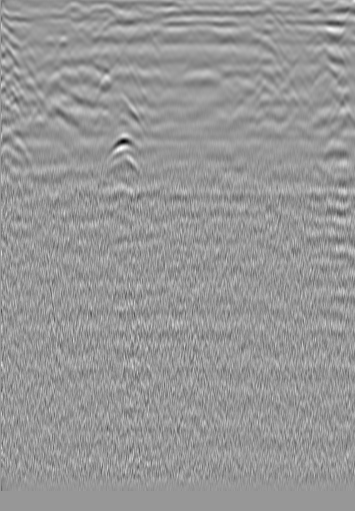가스: (98, 132, 141, 166)
상수: (19, 35, 39, 55)
오수: (300, 19, 320, 39)
우수: (162, 18, 188, 48)
